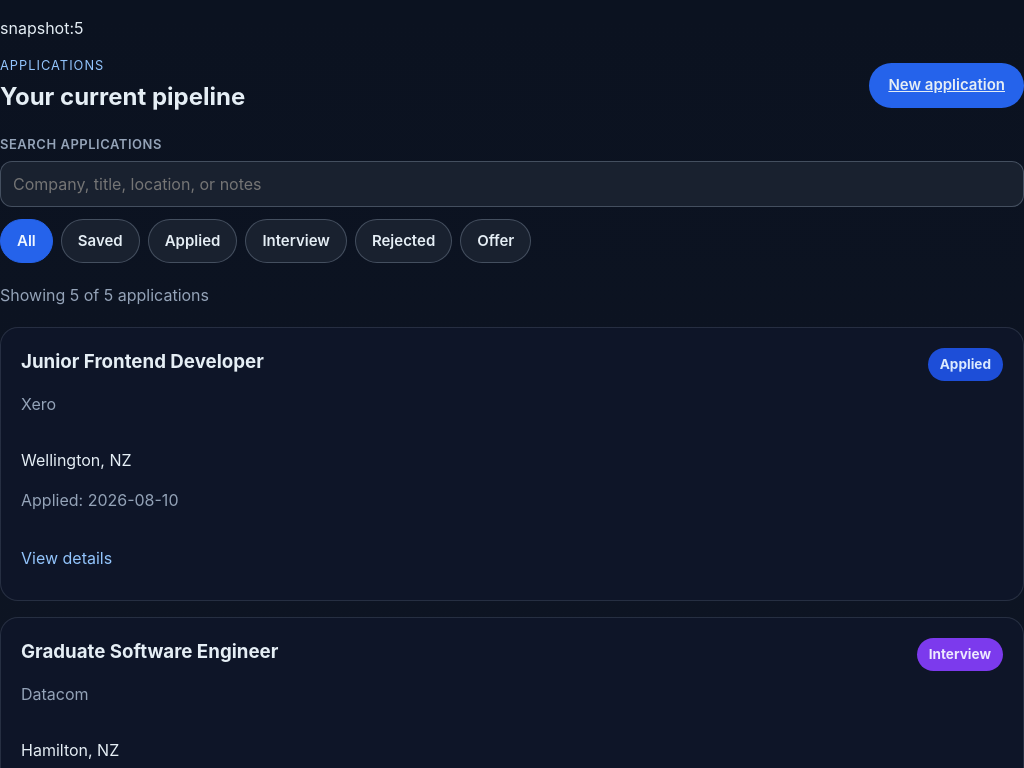
Test case: filtering the applications list by status › announces how many of the total are shown
Expected: the text "Datacom" is shown, [21,684,89,704]
Expected: the message shows "5 of 5 applications", [0,283,209,307]
Click the button "Rejected". click: (404, 241)
box: [355,219,452,263]
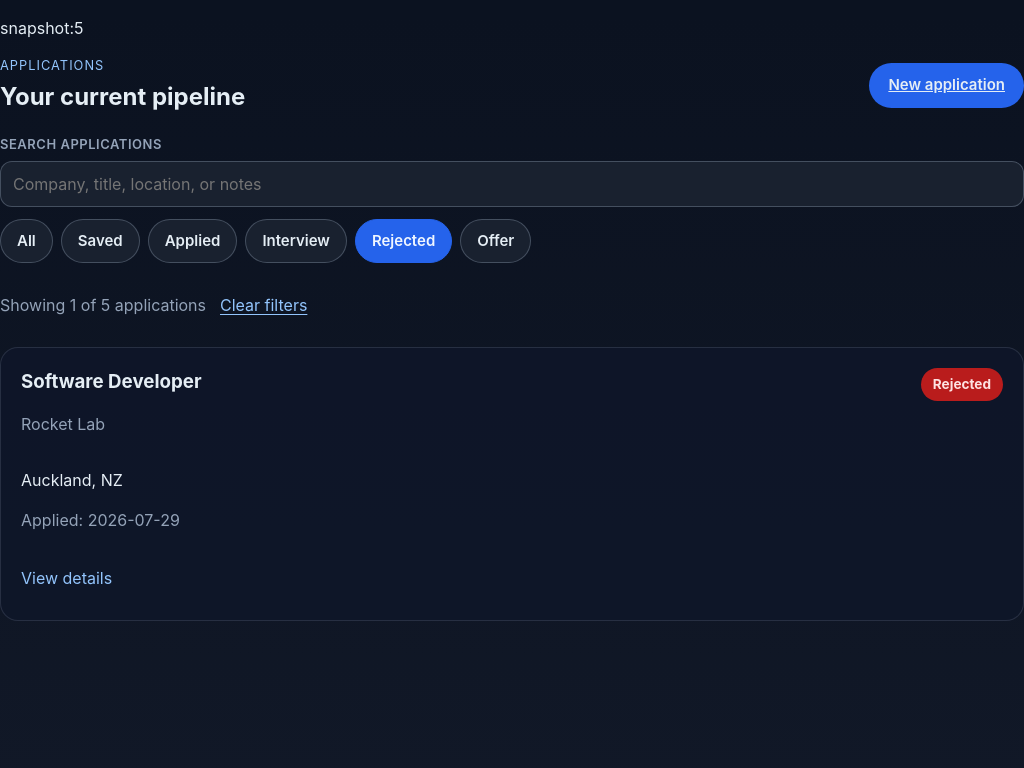
Result: the message shows "1 of 5 applications" at [0,293,206,317]
